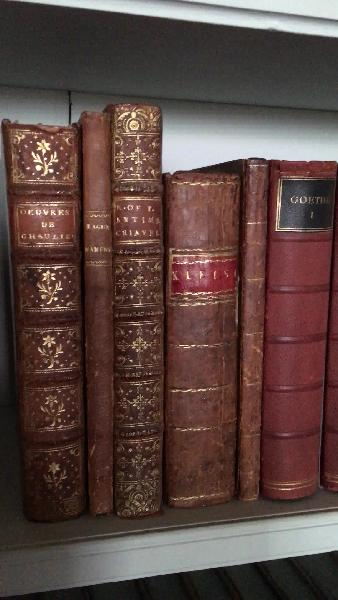Aa6-10: (234, 153, 266, 509)
Aa6-6: (2, 123, 89, 530)
Aa6-7: (78, 109, 118, 512)
Aa6-8: (115, 102, 163, 515)
Aa6-9: (164, 169, 238, 508)
